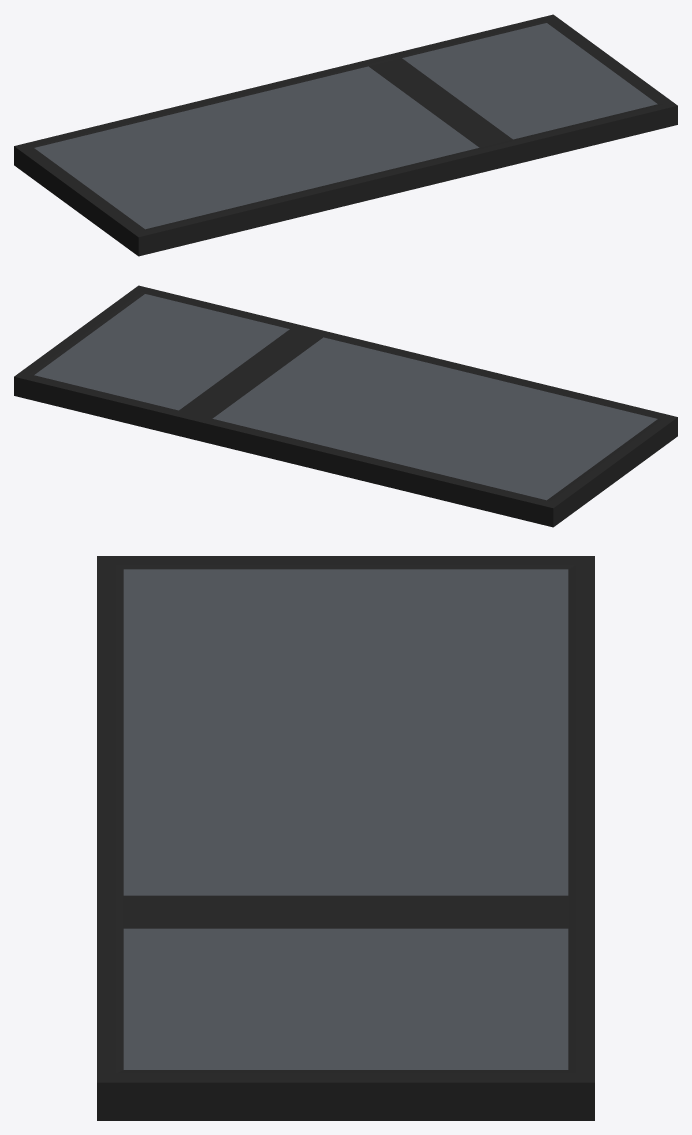
Rendered from Computer_4B.fbx.
The picture shows the model from 3 angles, top to bottom: view 1: azimuth 30°, elevation 25°; view 2: azimuth 150°, elevation 25°; view 3: azimuth 270°, elevation 25°; orthographic projection. The views are drawn at different scales.
Visible parts, largest first — view 1: pCube472; view 2: pCube472; view 3: pCube472.
Boxes of the visible parts, x1,y1,x2,y2 form: pCube472: (14,14,677,256); pCube472: (14,285,677,527); pCube472: (97,556,594,1120).
Size of the model in its own units: 0.5 by 0.017 by 0.2.
1 material, 1 textured.
